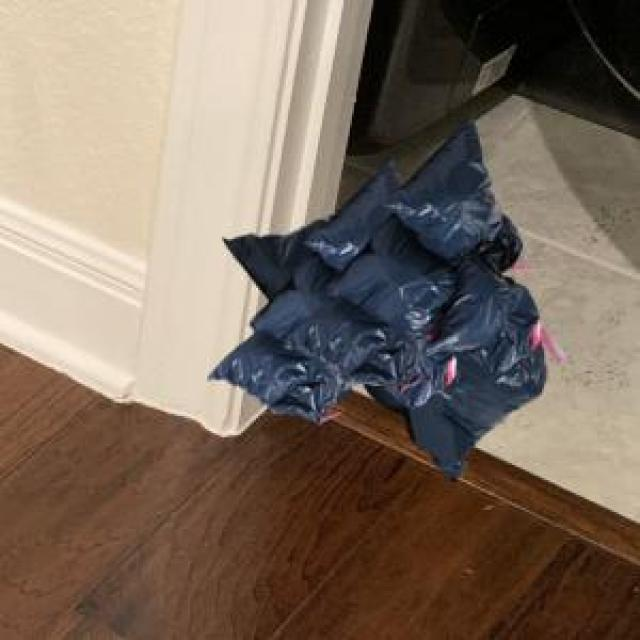waste: (210, 122, 548, 477)
